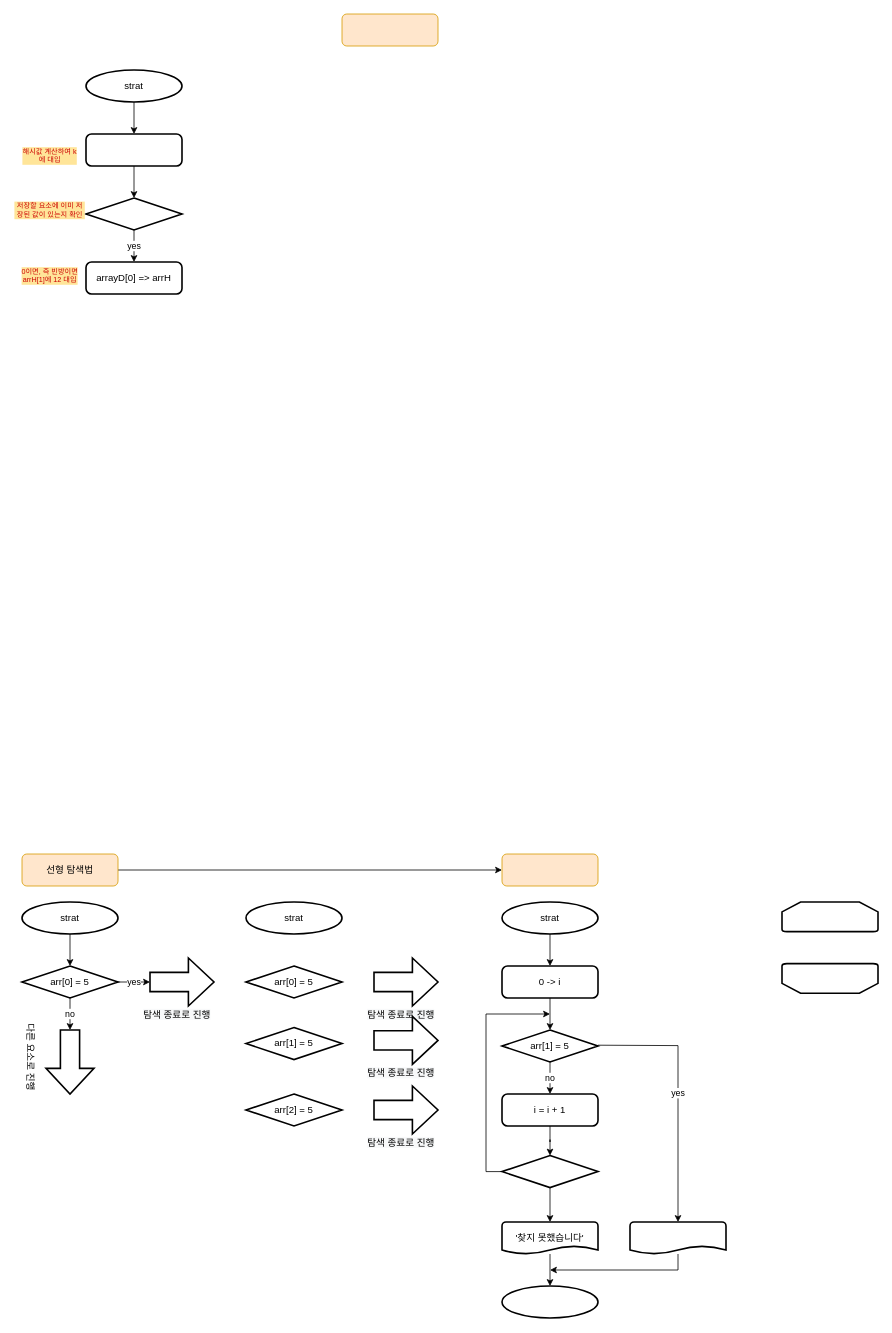
This 892x1333 diagram has some shape labels left out. The centre of each missing label's shape, as x and y in pixels:
'i번째 요소가 일치'': [677,1237]
arrayD[0] % 11 => k: [133,149]
arrayH[k] = 0 (빈방): [133,213]
end: [549,1301]
Hash Search: [389,29]
i < len(arr): [549,1171]
반복구조: [549,869]
